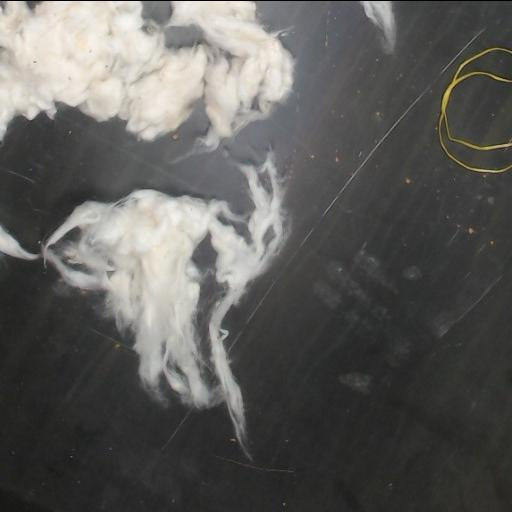conveyor belt: (0, 1, 511, 512), (0, 106, 245, 251)
cotton: (42, 153, 284, 444), (0, 1, 293, 151)
thread: (437, 47, 511, 173)
